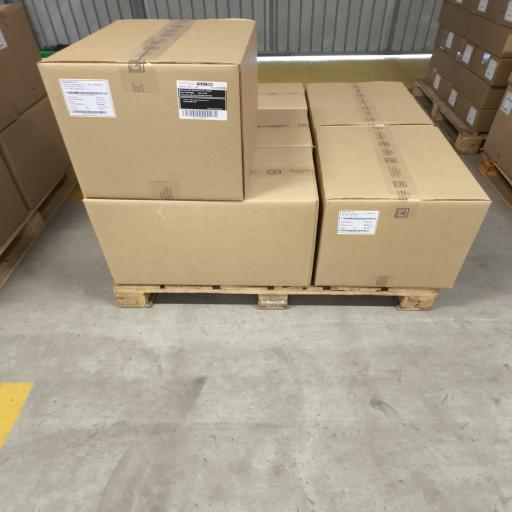pallet: (0, 169, 77, 287), (114, 285, 439, 310), (413, 80, 487, 154), (479, 154, 511, 209)
